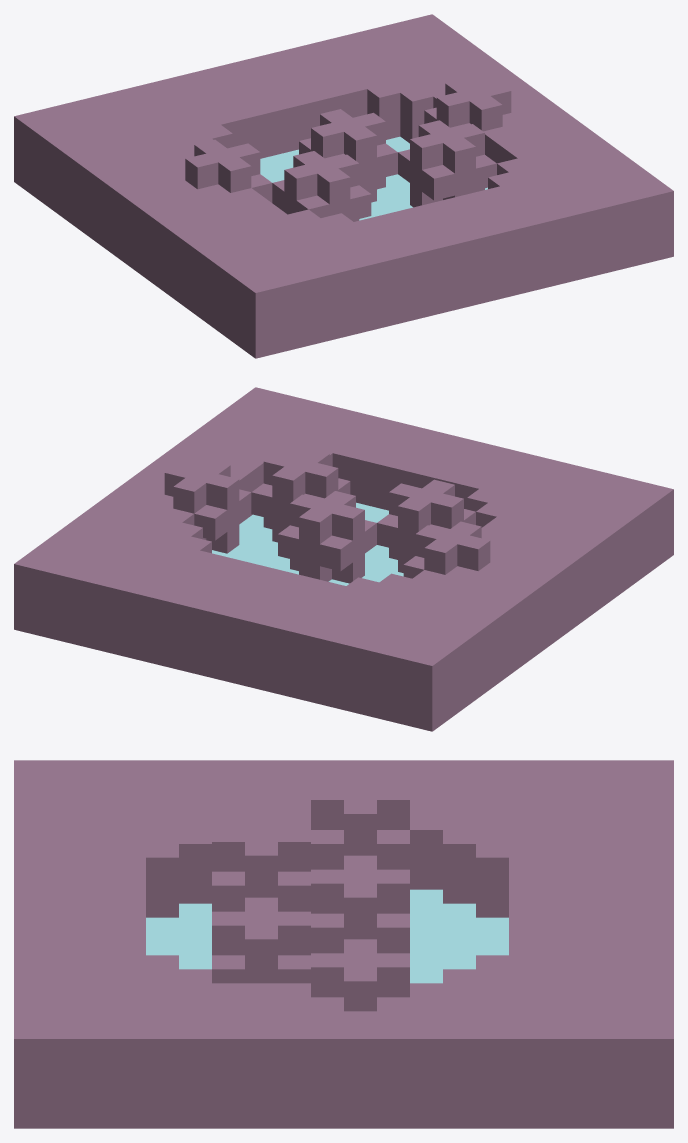
File: alien-biosphere-stepping-islands-e6458b33__22765.glb
3 renders of one model, top to bottom at view 1: azimuth 30°, elevation 25°; view 2: azimuth 150°, elevation 25°; view 3: azimuth 270°, elevation 25°, orthographic. The views are drawn at different scales.
Parts seen in each view (by area): view 1: stepping-islands; view 2: stepping-islands; view 3: stepping-islands.
Boxes of the visible parts, x1,y1,x2,y2 form: stepping-islands: (14,14,673,358); stepping-islands: (14,387,673,731); stepping-islands: (14,760,673,1128).
Size of the model in its own units: 4 by 0.8 by 4.
